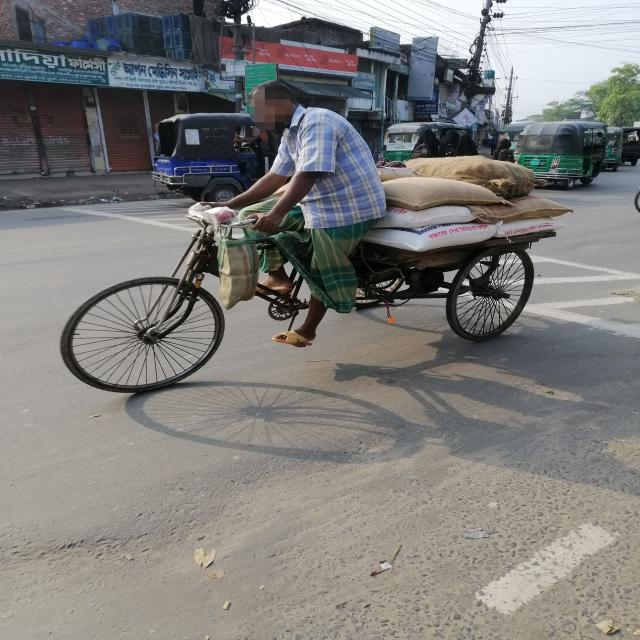Van: (53, 184, 563, 400)
